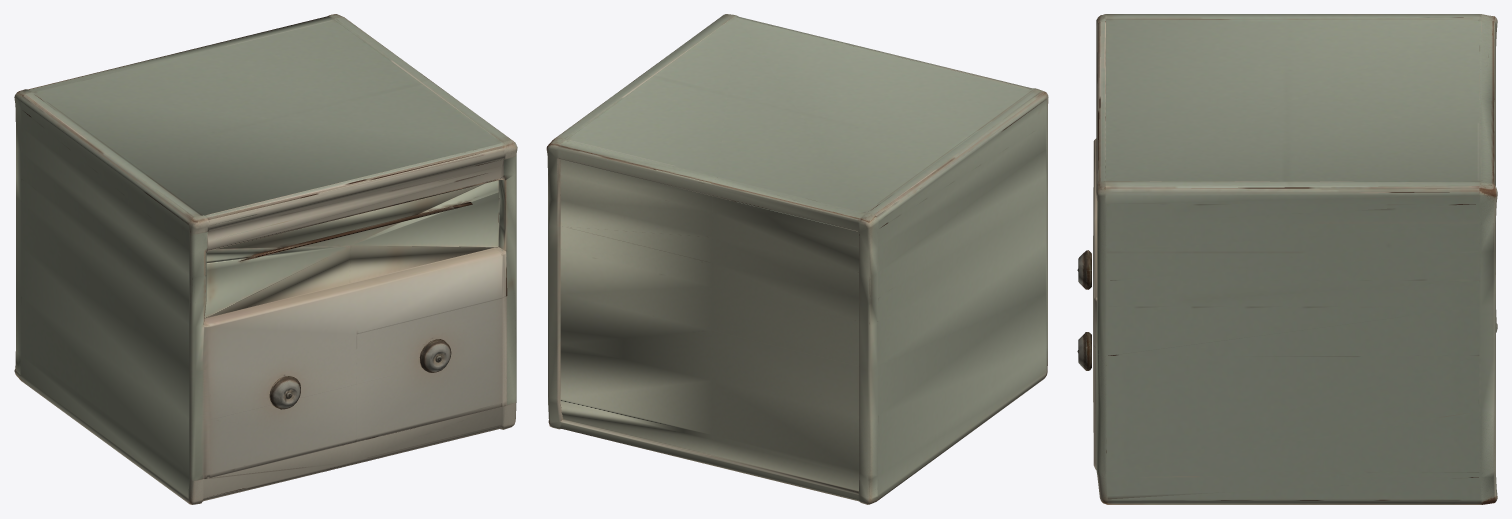
Rendered from BedsideCabinet.fbx.
The picture shows the model from 3 angles, left to right: view 1: azimuth 30°, elevation 25°; view 2: azimuth 150°, elevation 25°; view 3: azimuth 270°, elevation 25°; orthographic projection. The views are drawn at different scales.
Parts seen in each view (by area): view 1: mesh_node; view 2: mesh_node; view 3: mesh_node.
Part boxes in pixels (<box>): mesh_node: <box>14,14,517,504</box>; mesh_node: <box>546,14,1048,504</box>; mesh_node: <box>1077,14,1497,504</box>.
Bounding box in the file's own units: 190 × 160 × 190.
Materials: 1 (1 with a texture image).
